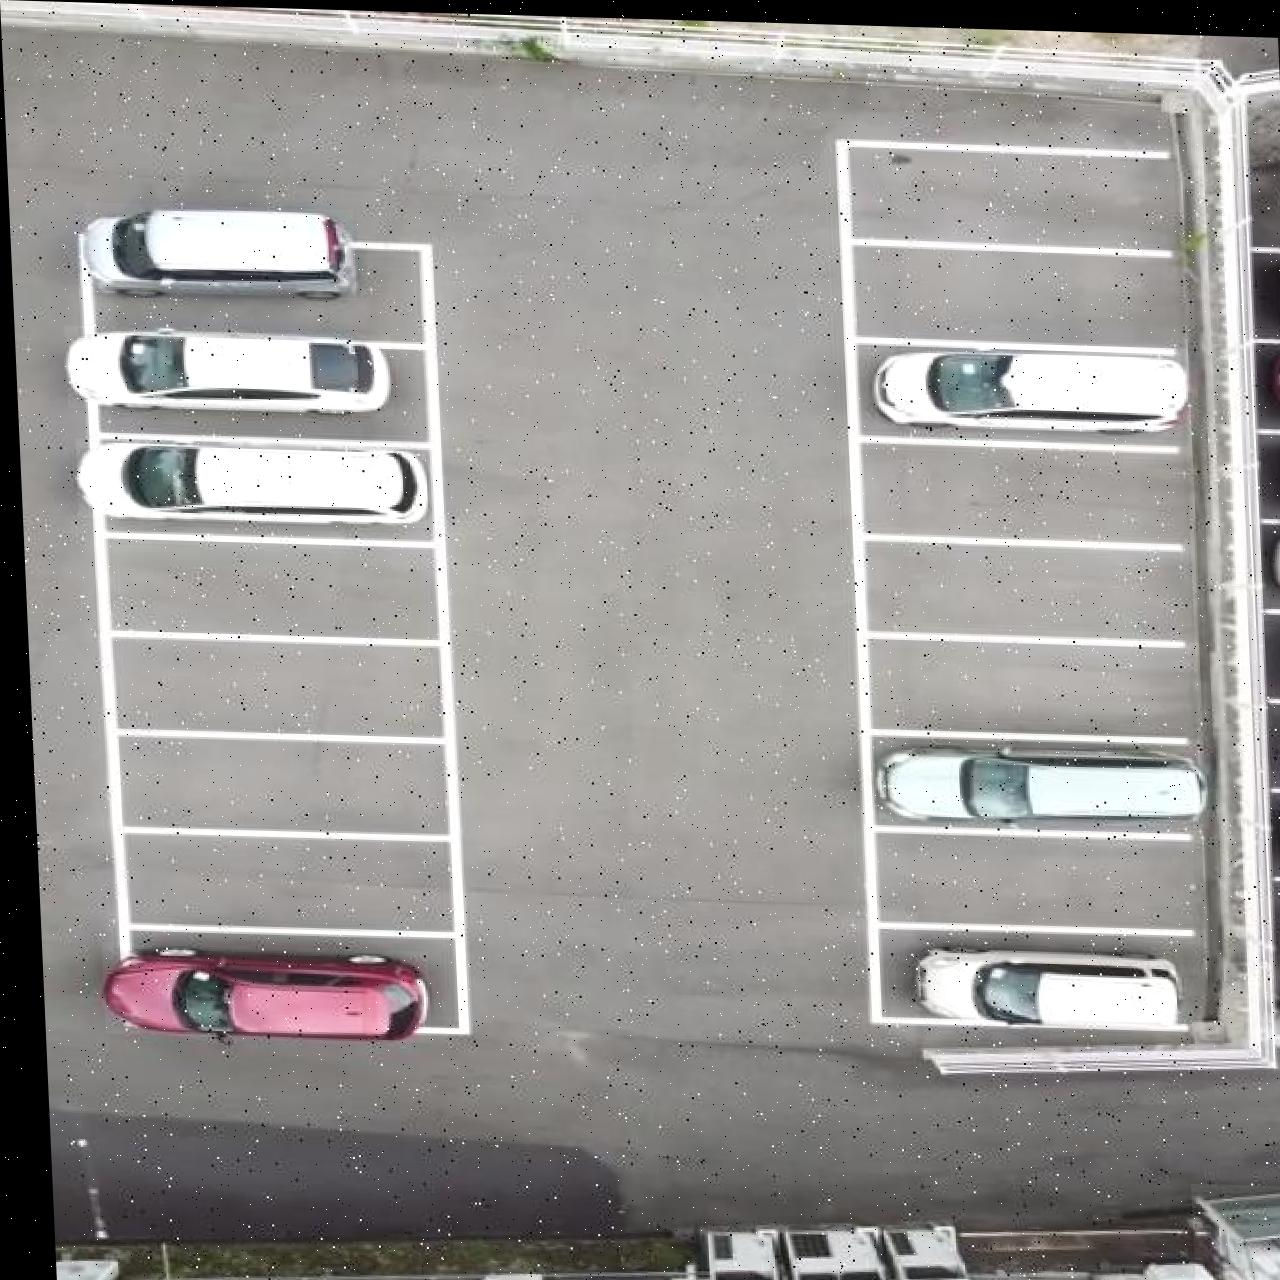car: (93, 941, 422, 1041), (72, 437, 425, 525), (869, 334, 1189, 429), (61, 325, 390, 415), (869, 736, 1201, 822), (83, 202, 354, 298), (904, 938, 1177, 1022), (688, 1211, 968, 1280), (1180, 1177, 1280, 1280)
